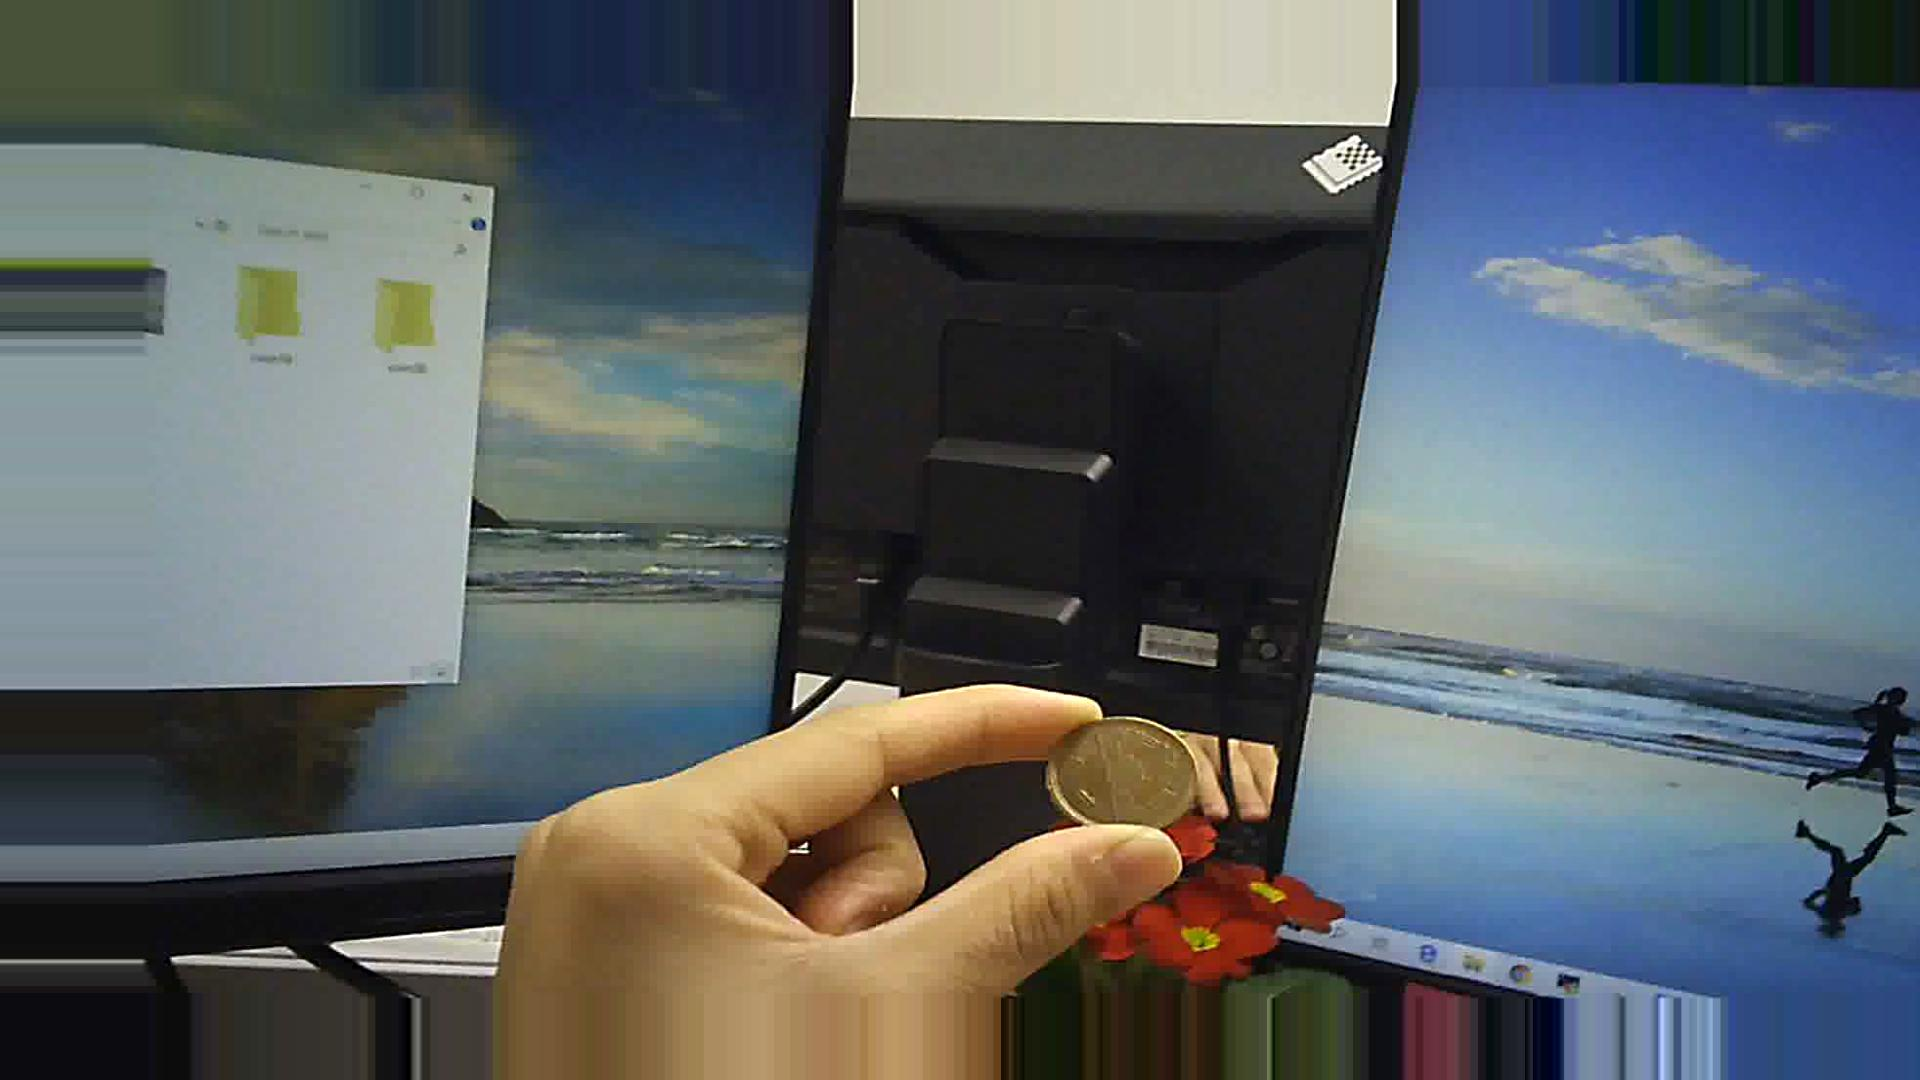10 Yen: (1036, 713, 1200, 833)
